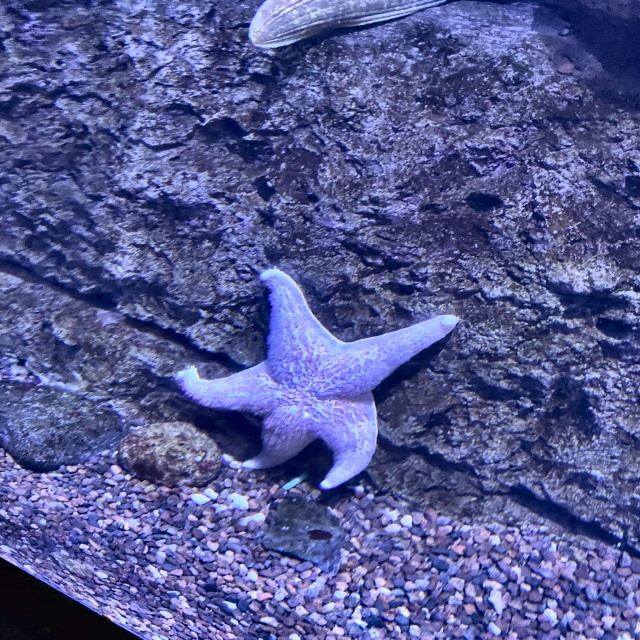starfish: (176, 269, 457, 488)
